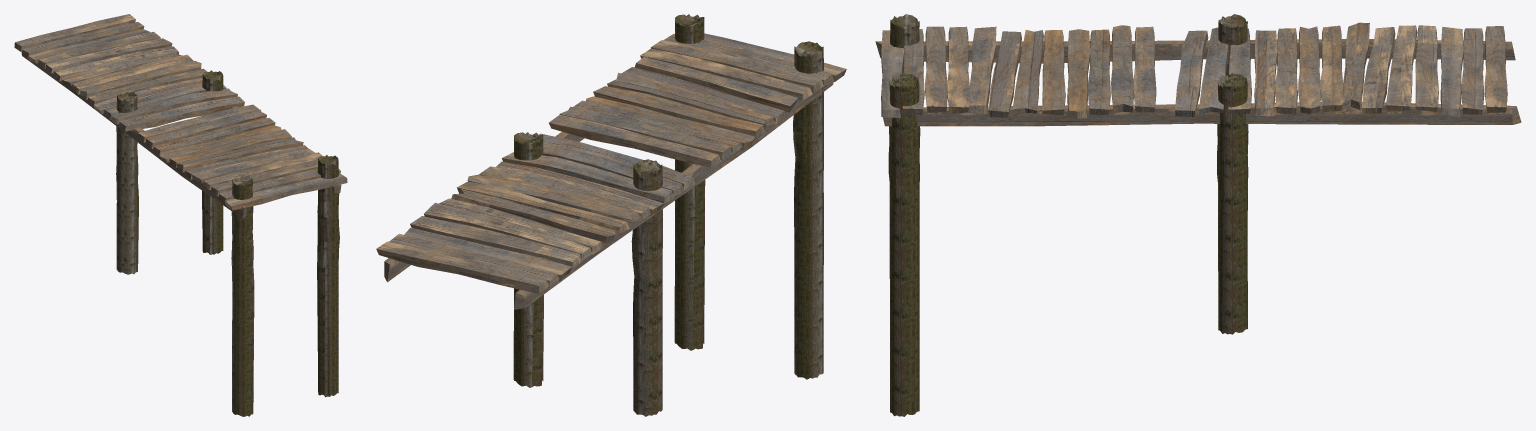
The model's file is pier_old.glb.
3 views of the same model, side by side, from view 1: azimuth 30°, elevation 25°; view 2: azimuth 150°, elevation 25°; view 3: azimuth 270°, elevation 25° (orthographic). The views are drawn at different scales.
Visible parts, largest first — view 1: peire; view 2: peire; view 3: peire.
Part boxes in pixels (box(x1,y1,x2,y2)): peire: box(14, 14, 347, 416); peire: box(376, 14, 846, 416); peire: box(875, 14, 1521, 416).
Bounding box in the file's own units: 1.56 × 2.85 × 5.
Materials: 2 (2 with a texture image).
